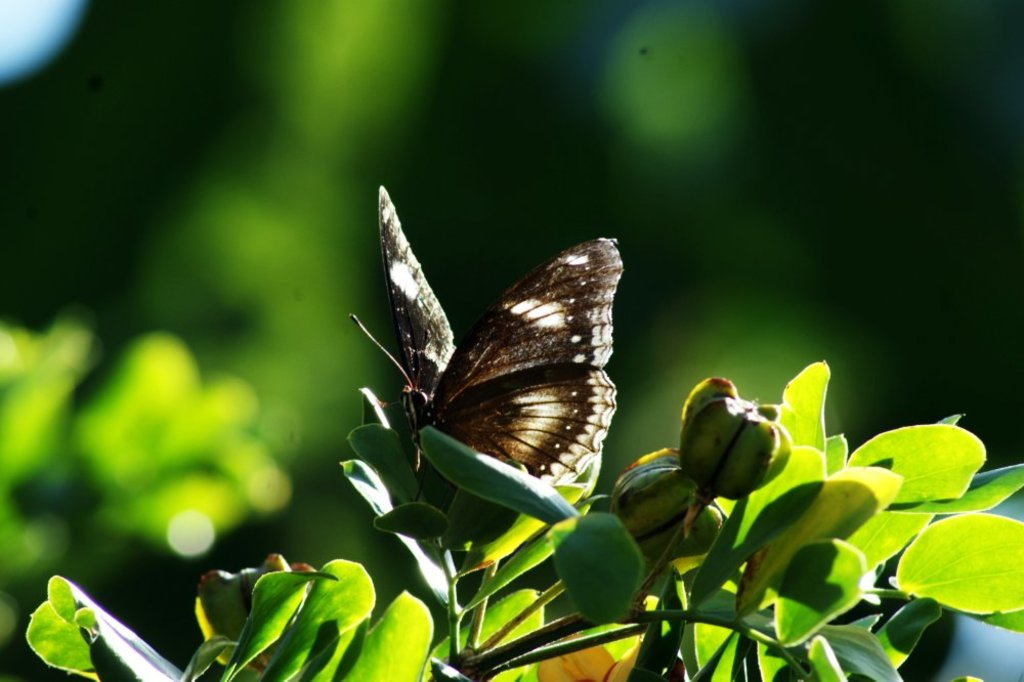Butterfly: (344, 152, 622, 516)
